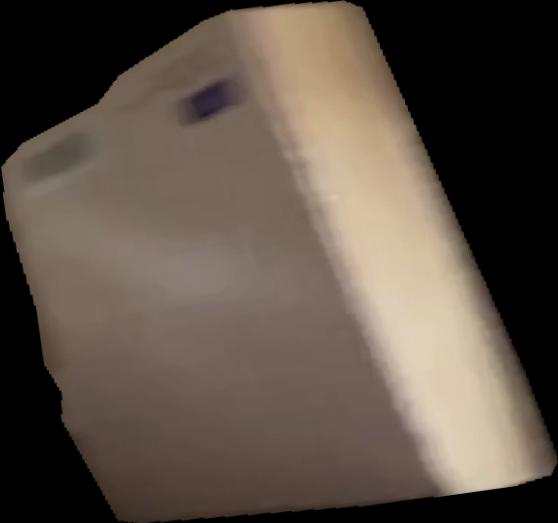backward: (1, 1, 558, 523)
